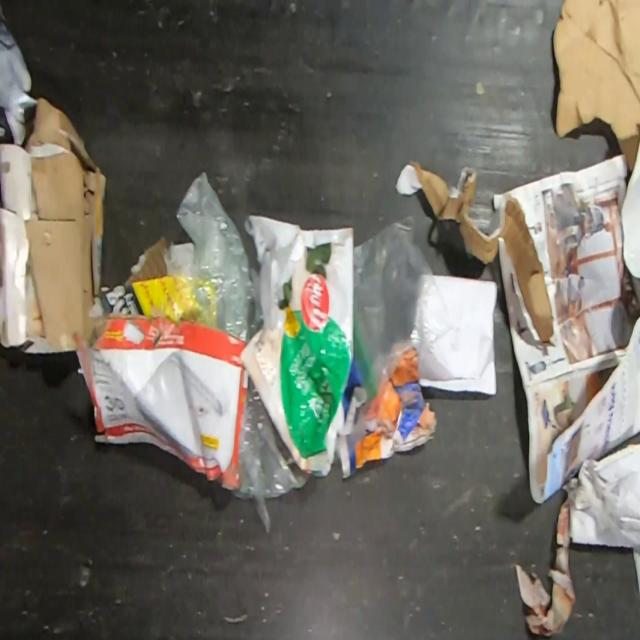cardboard: (72, 314, 249, 490), (395, 160, 556, 348), (0, 96, 107, 354), (550, 0, 640, 179), (99, 234, 170, 315)
soft_plastic: (239, 214, 354, 478), (148, 169, 264, 343), (354, 214, 456, 401), (230, 375, 313, 535)
